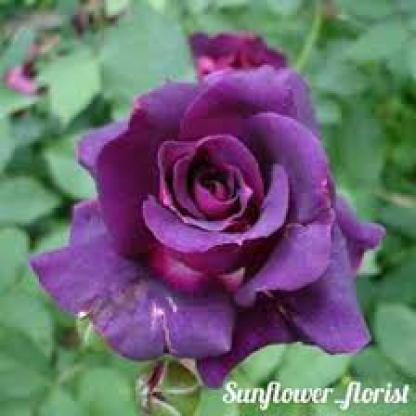Rose-Mawar: (27, 64, 384, 382)
